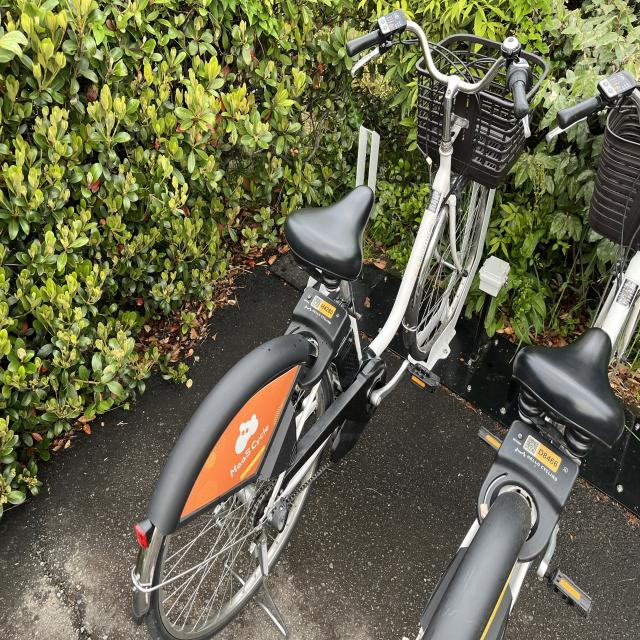basket: (414, 28, 551, 190)
battery: (330, 328, 365, 394)
